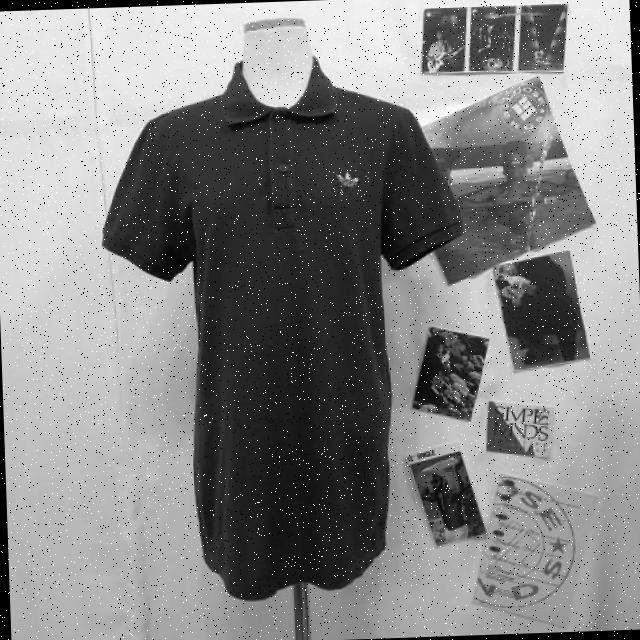Adidas: (331, 166, 370, 202)
